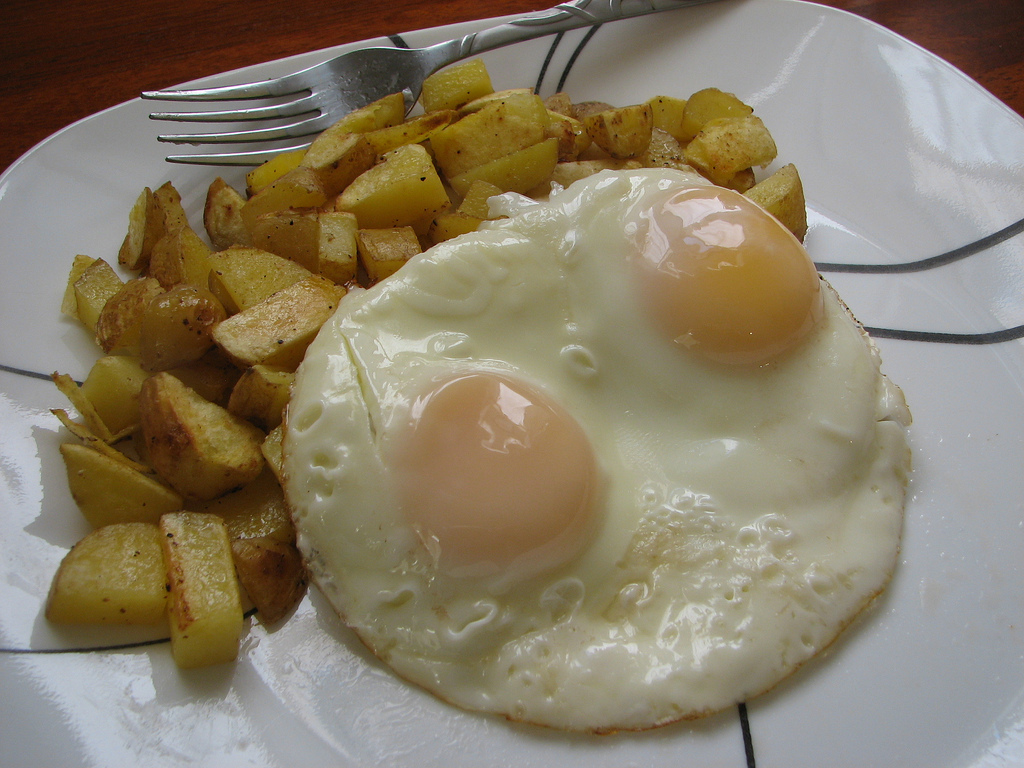boiled potatoes: (194, 87, 743, 240), (92, 233, 299, 626)
fried egg: (332, 290, 651, 732), (605, 174, 888, 567)
